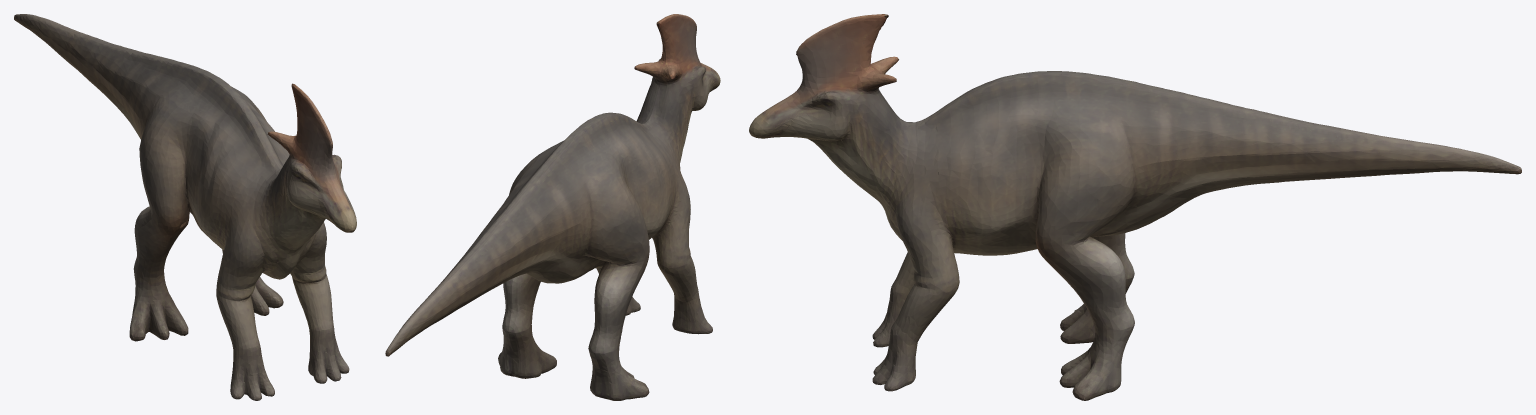
3 renders of one model, left to right at view 1: azimuth 30°, elevation 25°; view 2: azimuth 150°, elevation 25°; view 3: azimuth 270°, elevation 25°, orthographic. The views are drawn at different scales.
Visible parts, largest first — view 1: world; view 2: world; view 3: world.
Part boxes in pixels (x1,y1,x2,y2): world: (14, 14, 356, 400); world: (385, 14, 720, 400); world: (749, 14, 1521, 400).
Bounding box in the file's own units: 2.21 × 4.22 × 8.5.
1 material, 1 textured.
